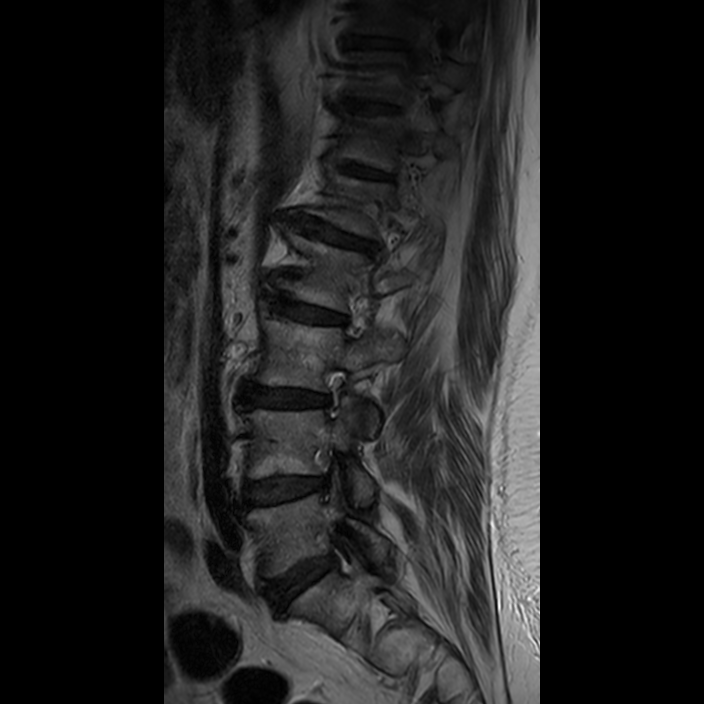RFS1: (308, 356, 354, 433)
